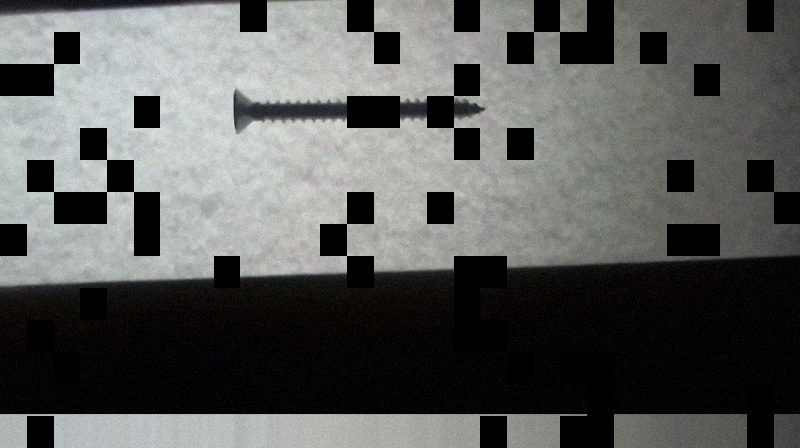S002: (229, 84, 488, 136)
